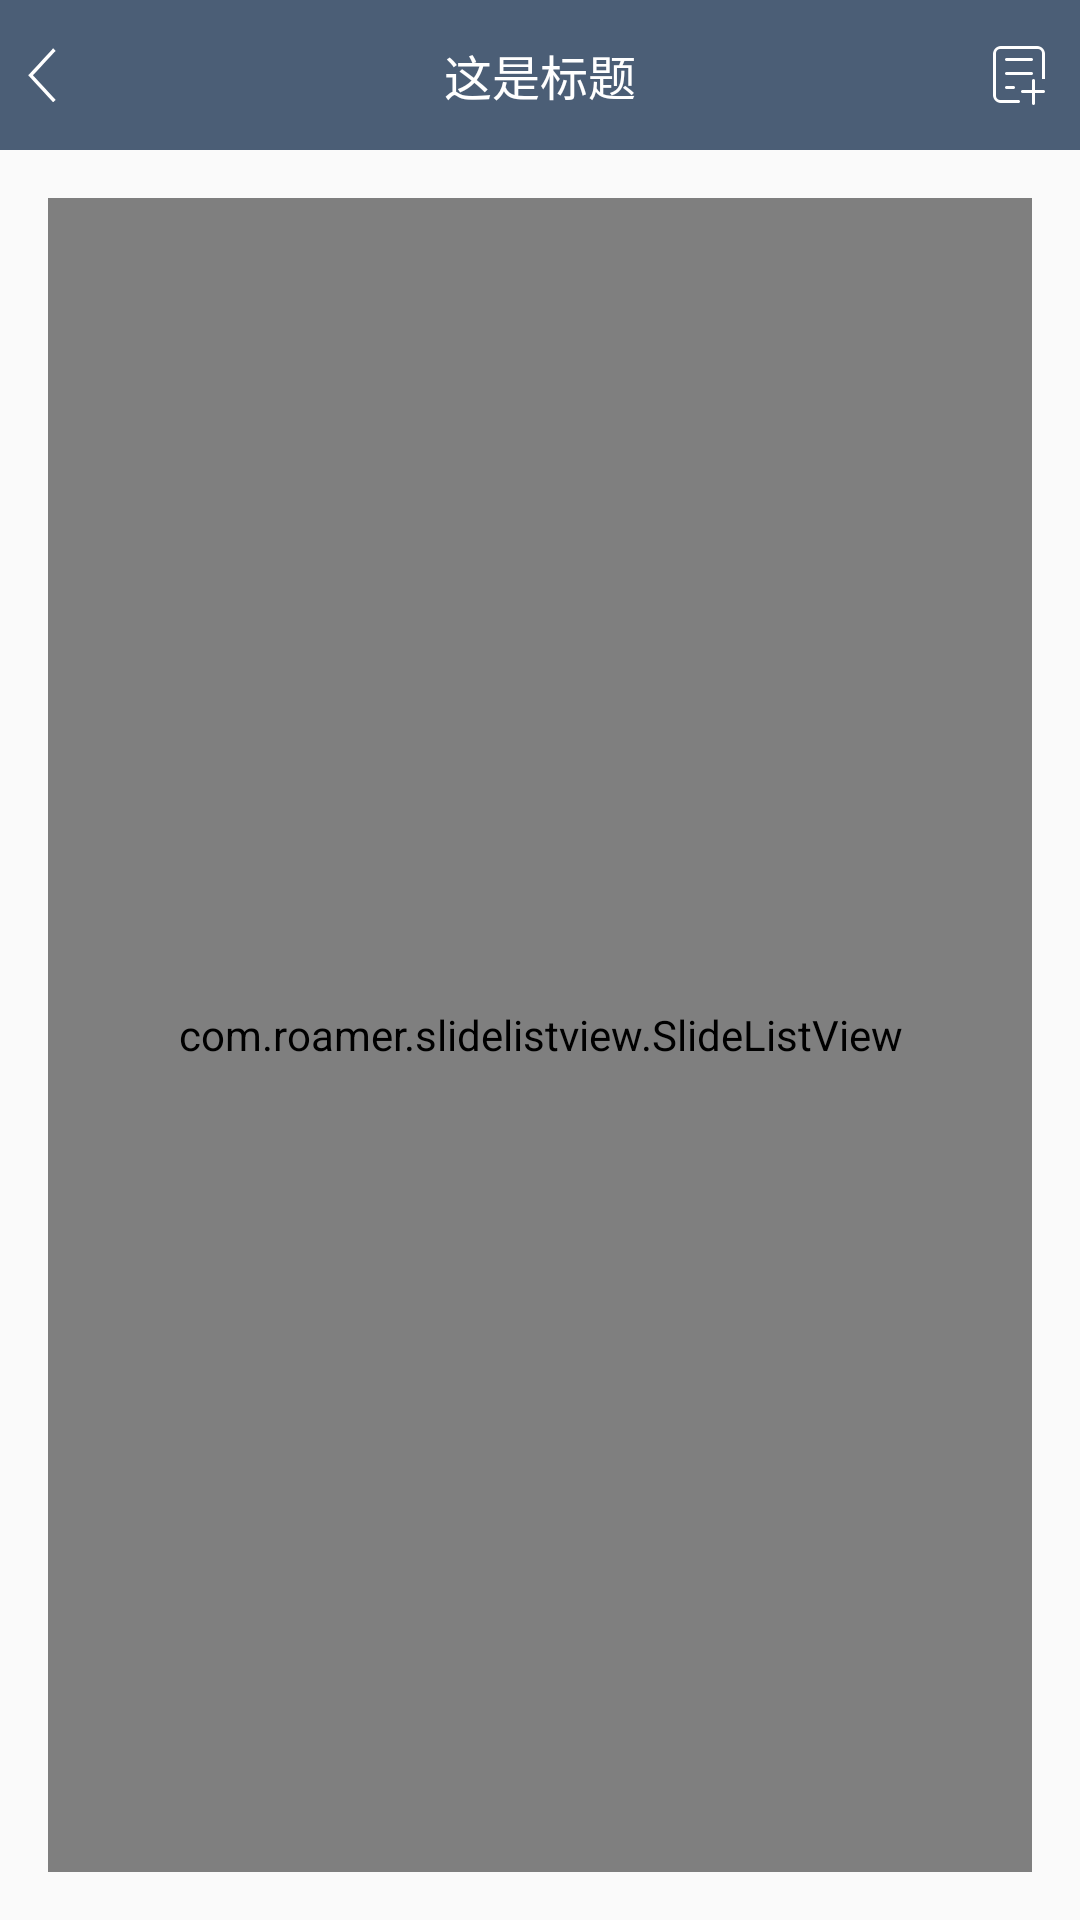

Named icons in this screenshot (1080*1920) and their bounding boxes, (x1, y1, x2, y2):
add: (993, 46, 1045, 105)
back: (28, 48, 56, 102)
